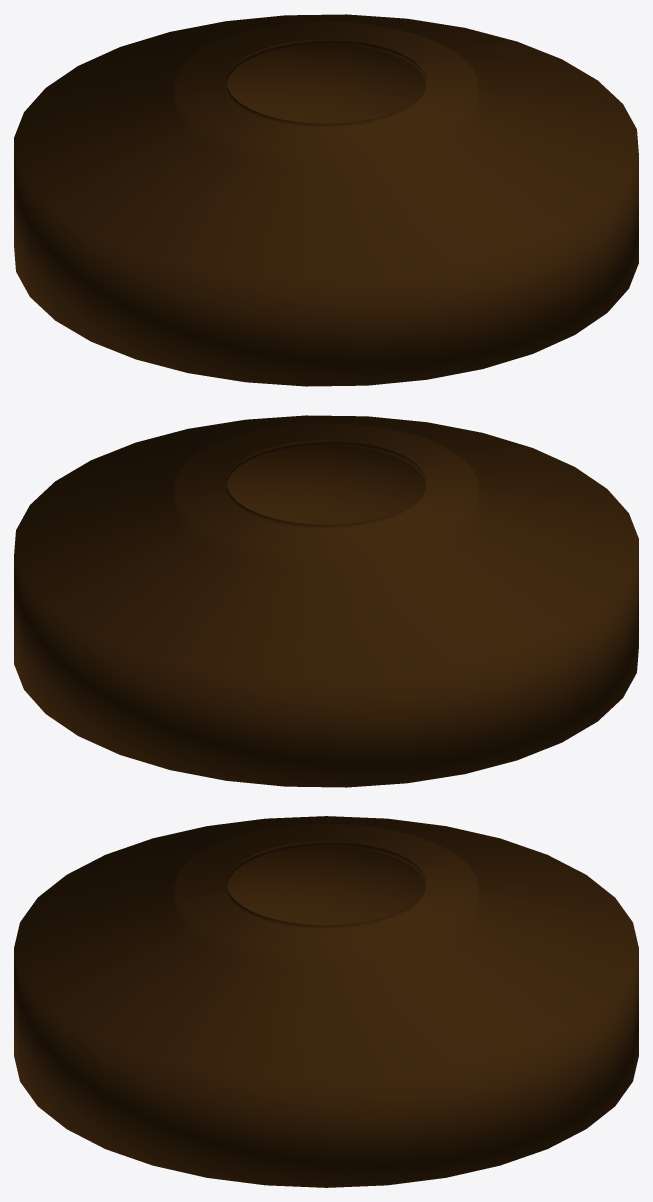
The model's file is enveloppe_interieure 1.fbx.
3 renders of one model, top to bottom at view 1: azimuth 30°, elevation 25°; view 2: azimuth 150°, elevation 25°; view 3: azimuth 270°, elevation 25°, orthographic.
Visible parts, largest first — view 1: EnveloppeInterieure; view 2: EnveloppeInterieure; view 3: EnveloppeInterieure.
Part boxes in pixels (<box>): EnveloppeInterieure: <box>14,14,638,386</box>; EnveloppeInterieure: <box>14,415,638,787</box>; EnveloppeInterieure: <box>14,816,638,1187</box>.
Size of the model in its own units: 4963 by 1776 by 4963.
